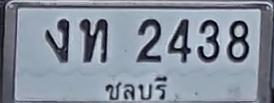2: (136, 18, 161, 61)
3: (197, 19, 219, 62)
4: (167, 18, 191, 62)
8: (227, 19, 249, 62)
A07: (44, 18, 70, 62)
A23: (80, 18, 109, 62)
CBI: (101, 71, 171, 103)
